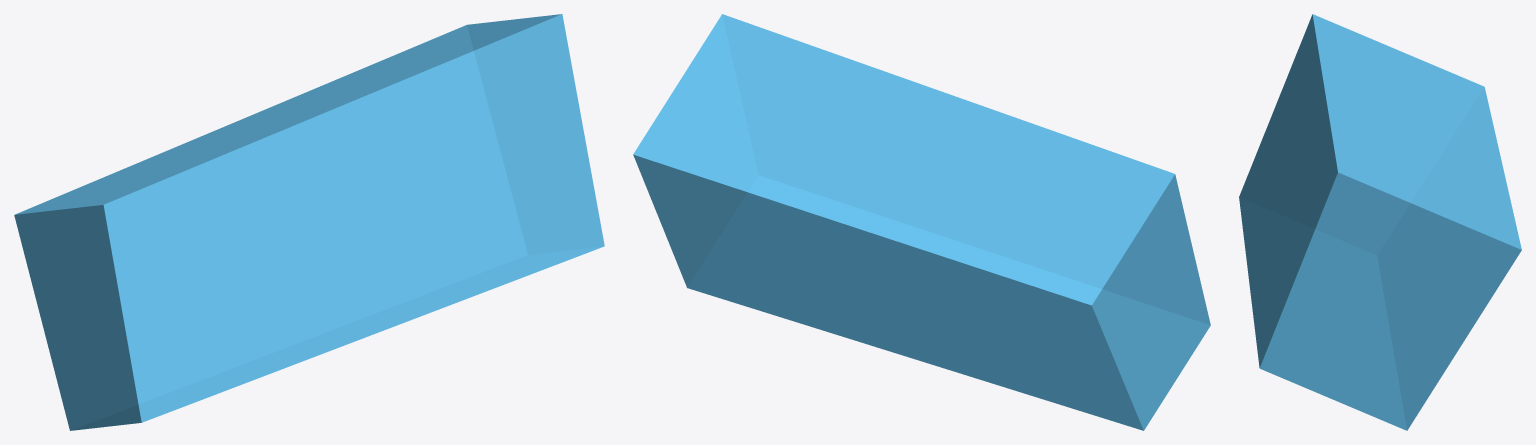
The model's file is Event_421364160_HErechit_29.fbx.
3 views of the same model, side by side, from view 1: azimuth 30°, elevation 25°; view 2: azimuth 150°, elevation 25°; view 3: azimuth 270°, elevation 25° (orthographic). The views are drawn at different scales.
Parts seen in each view (by area): view 1: Model; view 2: Model; view 3: Model.
Boxes of the visible parts, bbox=[...] form: Model: bbox=[14, 14, 604, 430]; Model: bbox=[633, 14, 1210, 430]; Model: bbox=[1239, 14, 1521, 430].
Size of the model in its own units: 0.6984 by 0.4461 by 0.3751.
